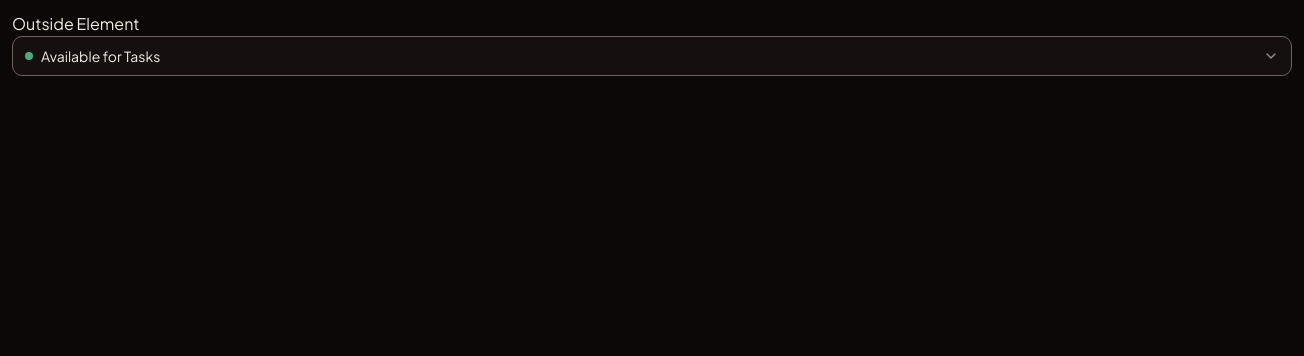
Test case: Select Component › closes on outside click
This screenshot has width=1304, height=356.
Click the dropdown at (101, 56), box [12, 36, 1292, 76]
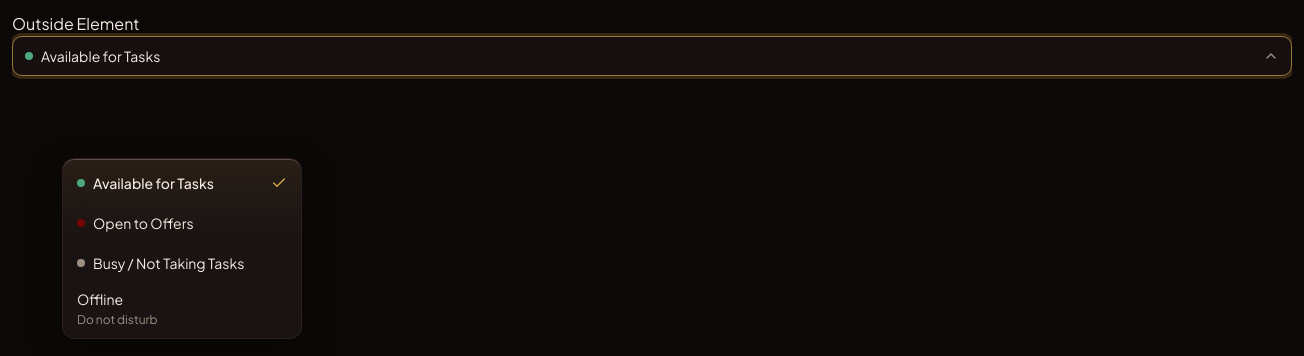
Result: the dropdown is expanded at [12, 36, 1292, 76]
Press the mouse on the text with test id "outside" at (76, 24), box [12, 13, 140, 34]
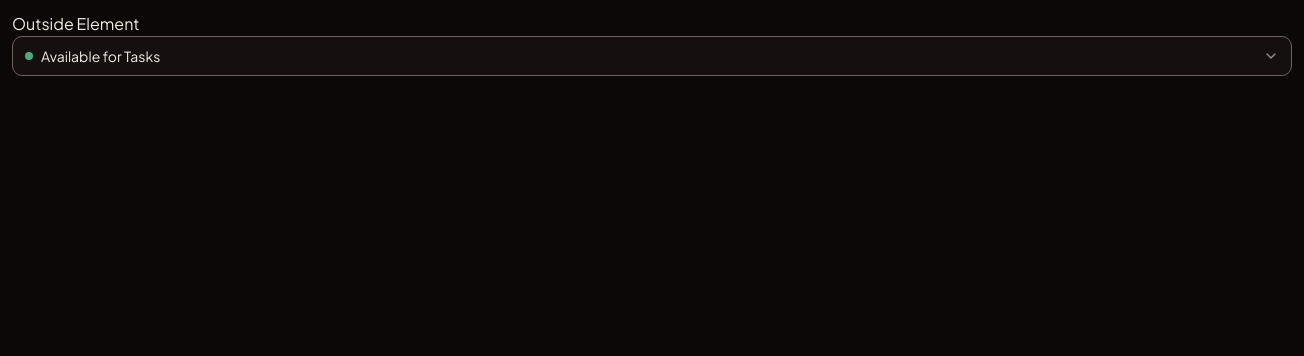
Result: the dropdown is collapsed at [12, 36, 1292, 76]
